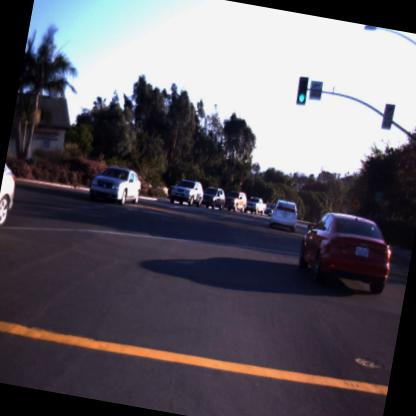trafficlight: (294, 76, 310, 104)
